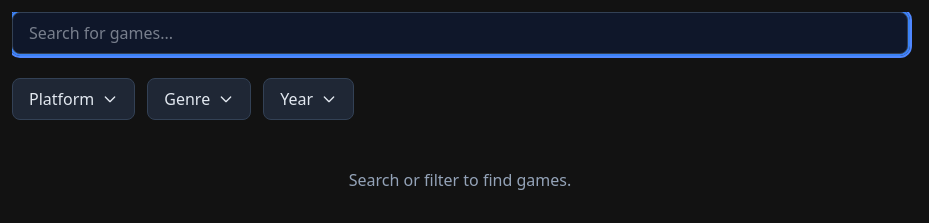
Test: GameSearch › passes genreOptions to the Genre dropdown
The width and height of the screenshot is (929, 223).
Click the button "Genre": (199,99) [147,78,251,120]
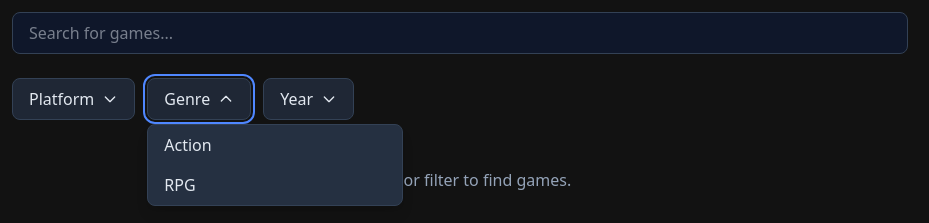
Now the text "Action" is shown, box [164,133,212,157]
Now the text "RPG" is shown, box [164,173,196,197]
